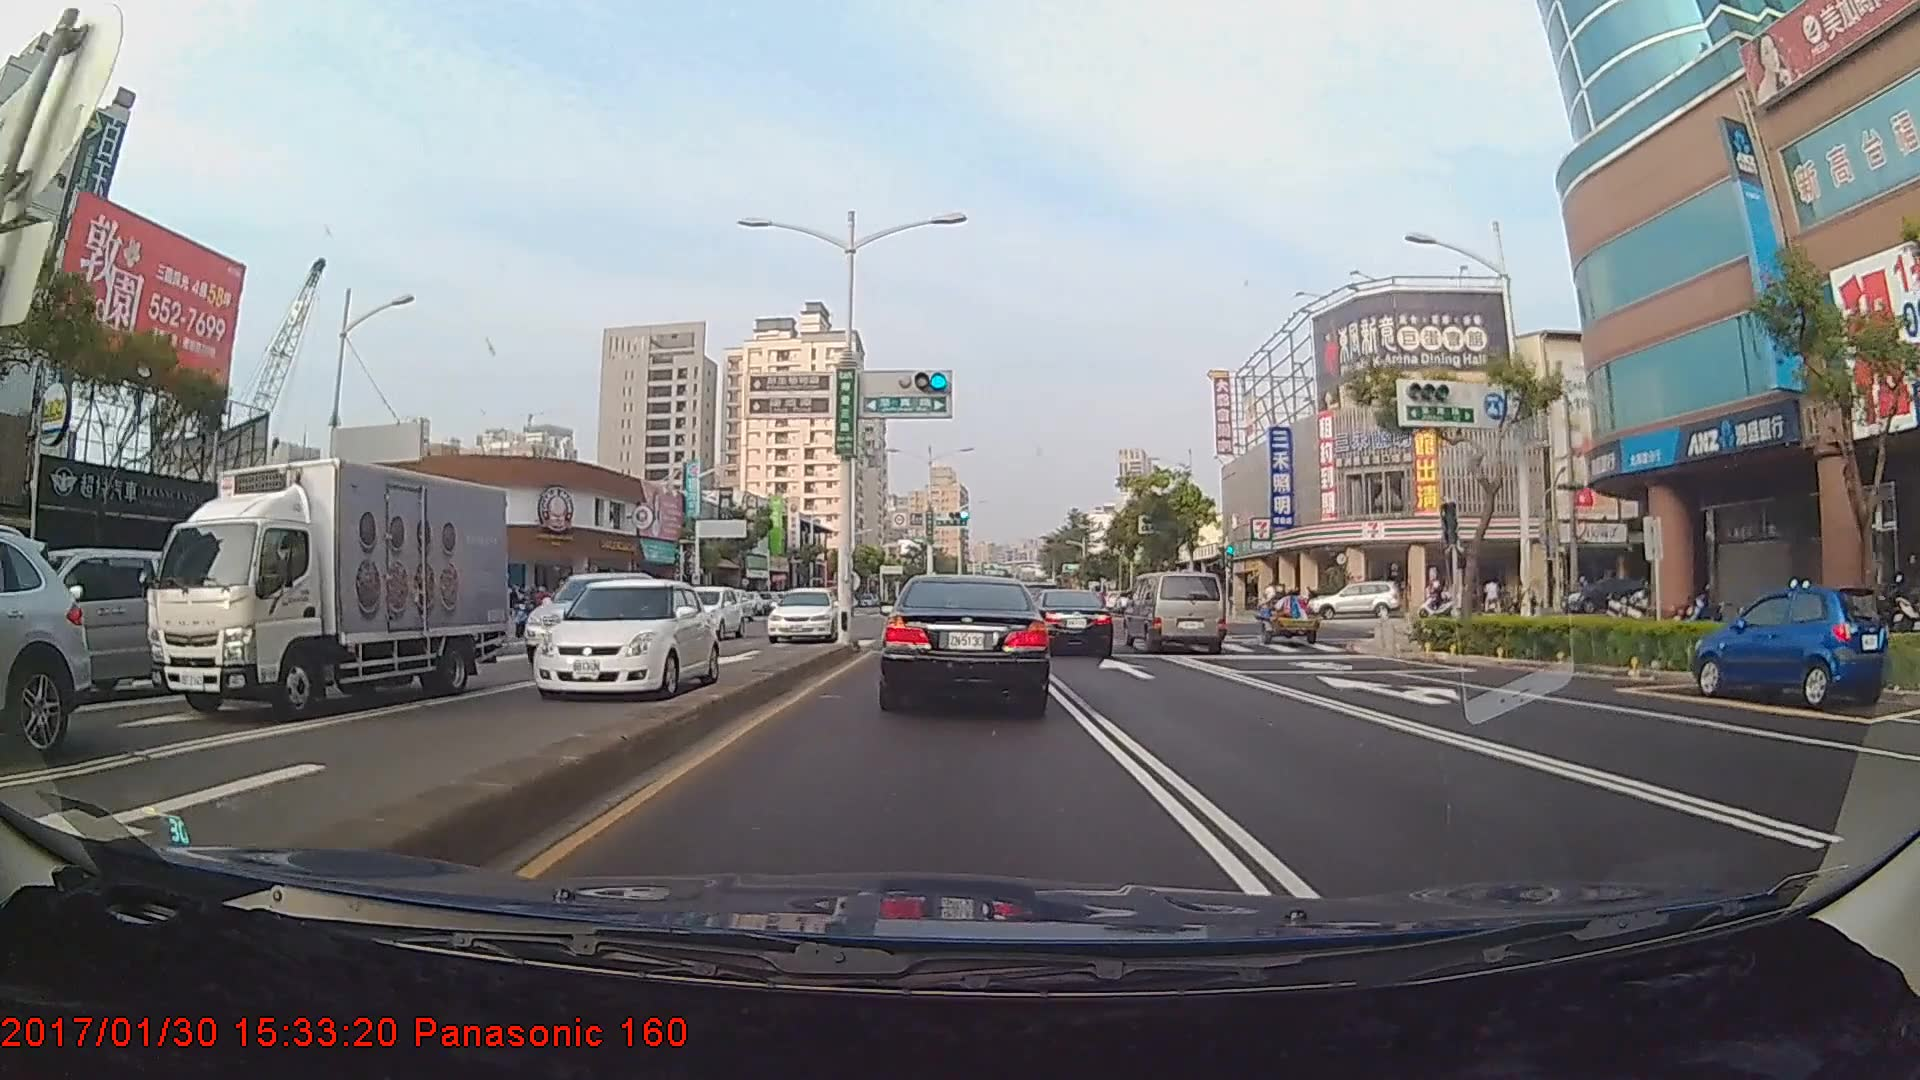vehicle: (137, 448, 513, 723), (0, 545, 202, 695), (1691, 582, 1894, 709), (882, 571, 1050, 713), (530, 576, 719, 700), (0, 517, 88, 775), (517, 566, 662, 665), (1127, 571, 1226, 653), (1033, 588, 1114, 655), (756, 584, 837, 644), (662, 583, 741, 641), (1307, 582, 1404, 620)
